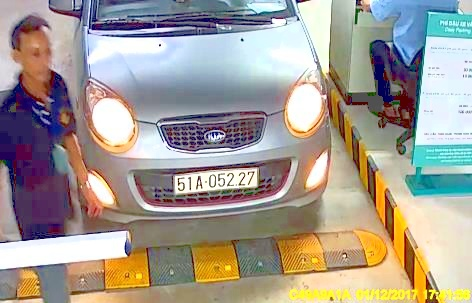plate: (172, 165, 262, 192)
